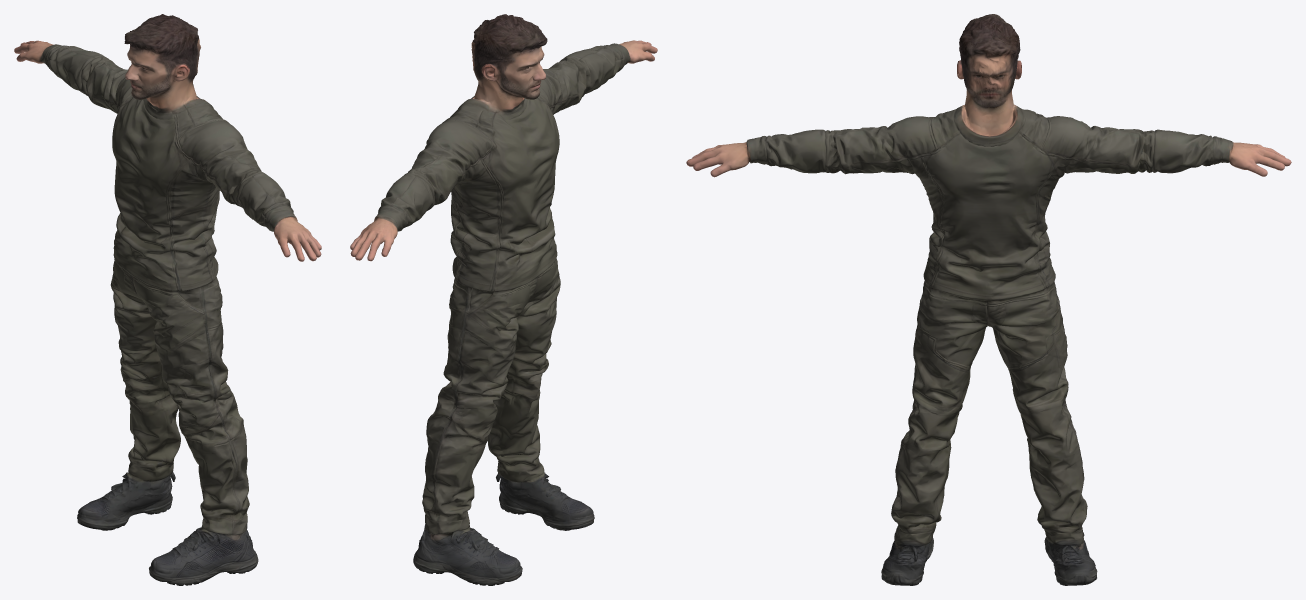
Rendered from base-soldier-textured-v2.glb.
3 renders of one model, left to right at view 1: azimuth 30°, elevation 25°; view 2: azimuth 150°, elevation 25°; view 3: azimuth 270°, elevation 25°, orthographic. The views are drawn at different scales.
Visible parts, largest first — view 1: tripo_node_31de3369-5b75-4263-b198-e973378aabce; view 2: tripo_node_31de3369-5b75-4263-b198-e973378aabce; view 3: tripo_node_31de3369-5b75-4263-b198-e973378aabce.
Part boxes in pixels (<box>): tripo_node_31de3369-5b75-4263-b198-e973378aabce: <box>14,14,321,585</box>; tripo_node_31de3369-5b75-4263-b198-e973378aabce: <box>350,14,657,585</box>; tripo_node_31de3369-5b75-4263-b198-e973378aabce: <box>686,14,1291,585</box>.
Bounding box in the file's own units: 0.1892 × 0.9744 × 0.9787.
1 material, 1 textured.
